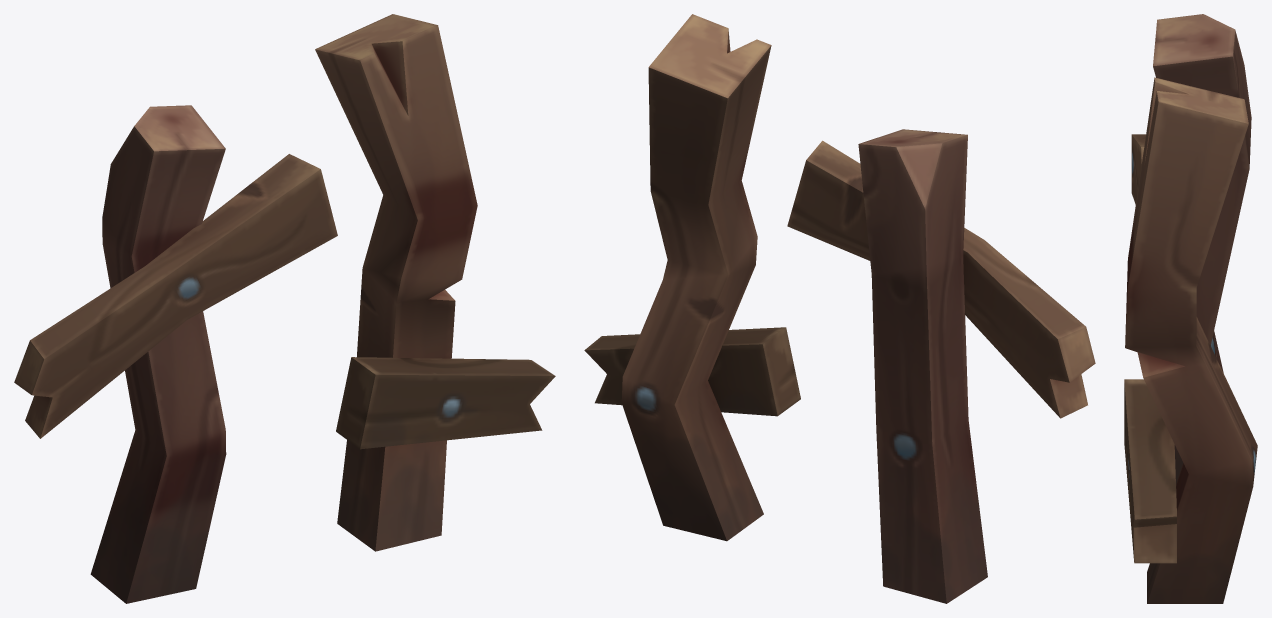
The model's file is wooden_fence_broken01.fbx.
3 renders of one model, left to right at view 1: azimuth 30°, elevation 25°; view 2: azimuth 150°, elevation 25°; view 3: azimuth 270°, elevation 25°, orthographic. The views are drawn at different scales.
Visible parts, largest first — view 1: wooden_fence_broken01; view 2: wooden_fence_broken01; view 3: wooden_fence_broken01.
Boxes of the visible parts, bbox=[...] form: wooden_fence_broken01: bbox=[14, 14, 555, 603]; wooden_fence_broken01: bbox=[584, 14, 1095, 603]; wooden_fence_broken01: bbox=[1124, 14, 1257, 603].
Bounding box in the file's own units: 173 × 161 × 38.86.
